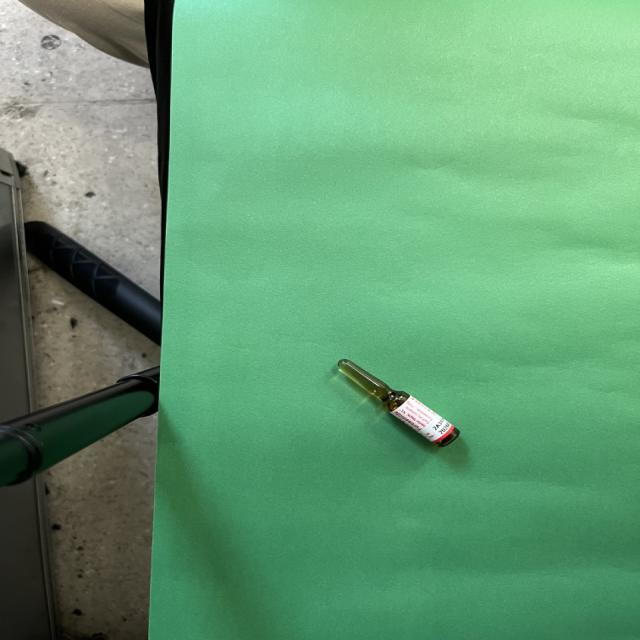Ampoules: (338, 359, 461, 448)
